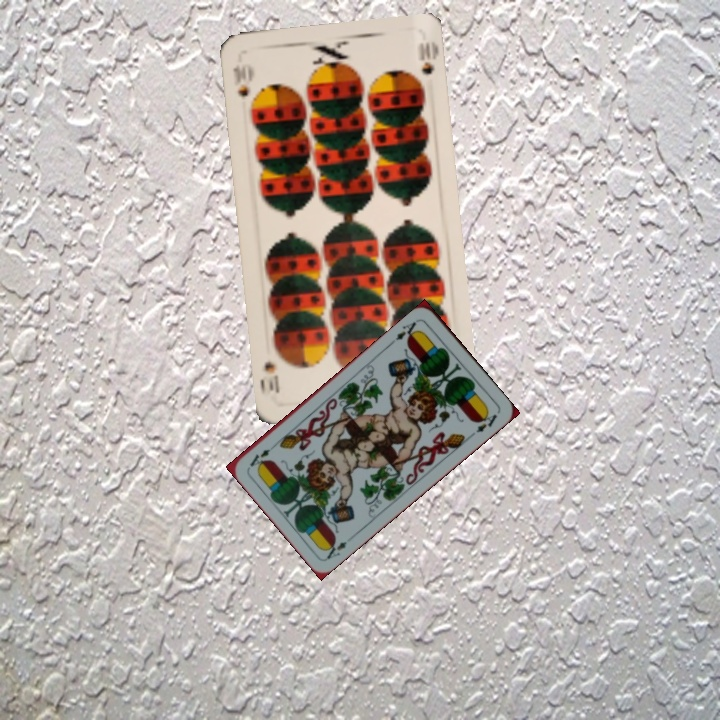EA: (387, 315, 422, 346), (320, 537, 349, 562)
S10: (229, 60, 254, 100)
